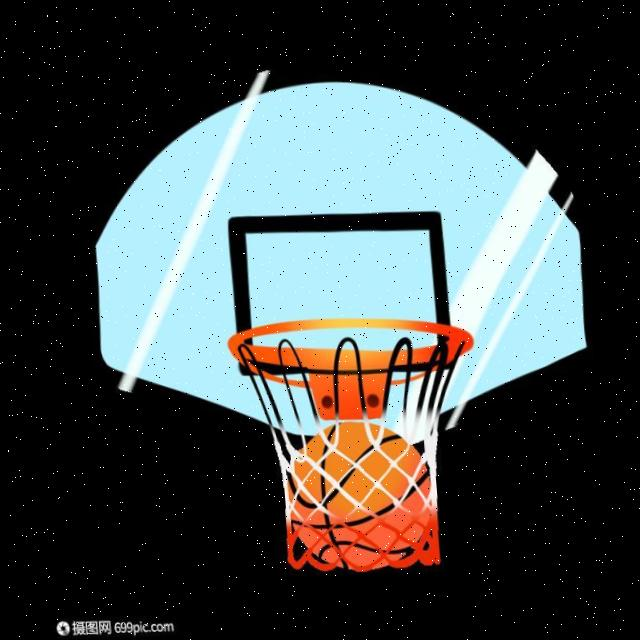basketball: (275, 416, 442, 572)
hoop: (224, 307, 500, 579), (225, 307, 498, 581)
